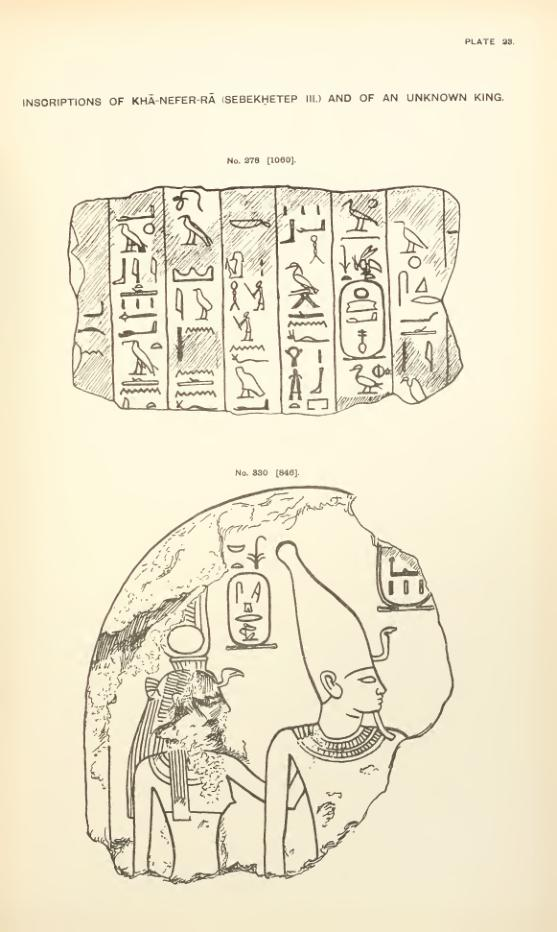circle: (371, 542, 435, 619), (224, 570, 278, 651), (337, 280, 390, 360)
